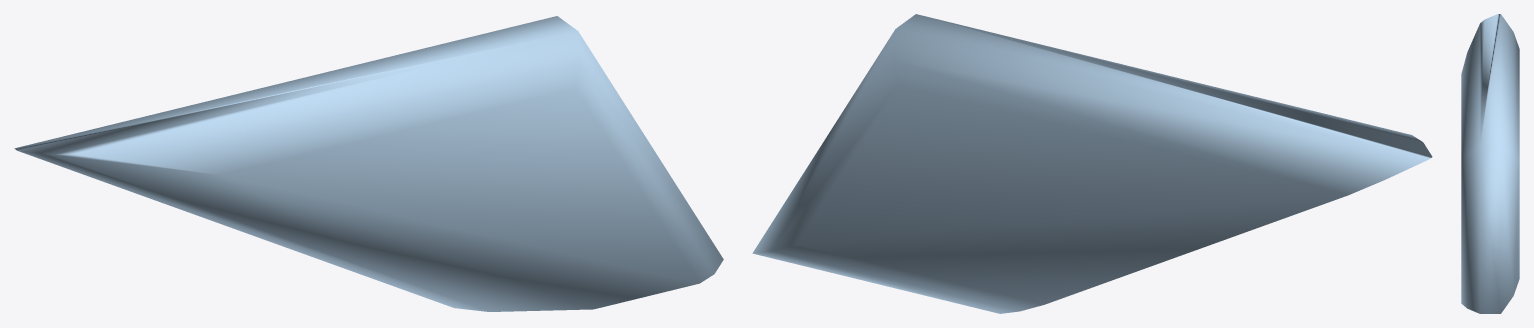
File: quartz-dauphine-twin.glb
The picture shows the model from 3 angles, left to right: view 1: azimuth 30°, elevation 25°; view 2: azimuth 150°, elevation 25°; view 3: azimuth 270°, elevation 25°; orthographic projection. The views are drawn at different scales.
Parts seen in each view (by area): view 1: quartz-dauphine-twin; view 2: quartz-dauphine-twin; view 3: quartz-dauphine-twin.
Boxes of the visible parts, <box> form: quartz-dauphine-twin: <box>14,16,723,311</box>; quartz-dauphine-twin: <box>752,14,1432,313</box>; quartz-dauphine-twin: <box>1461,14,1519,313</box>.
Bounding box in the file's own units: 5.46 × 2 × 0.8.
